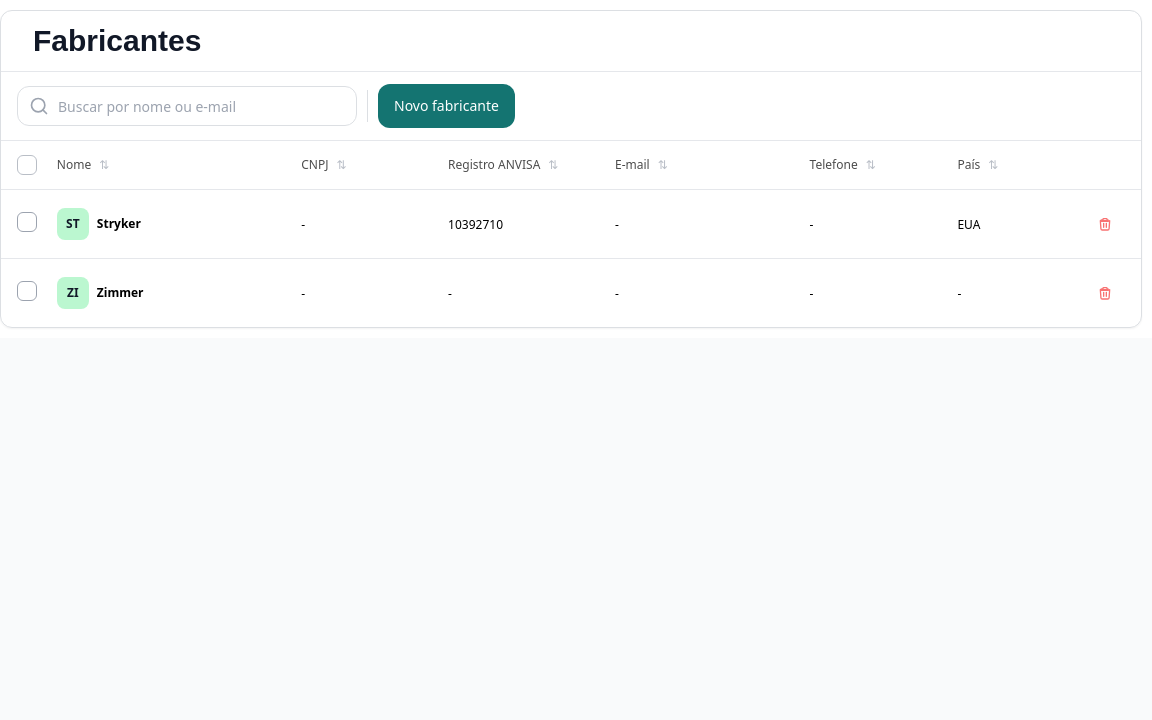
Test: FabricantesPage (lista genérica de cadastro) › exclui um fabricante e o tira da lista
Expected: the text "Stryker" is shown, [97,216,141,232]
Step 1. Click the button titled "Excluir fabricante" in the row of "Stryker" → click(1105, 224), box [1085,202,1125,246]
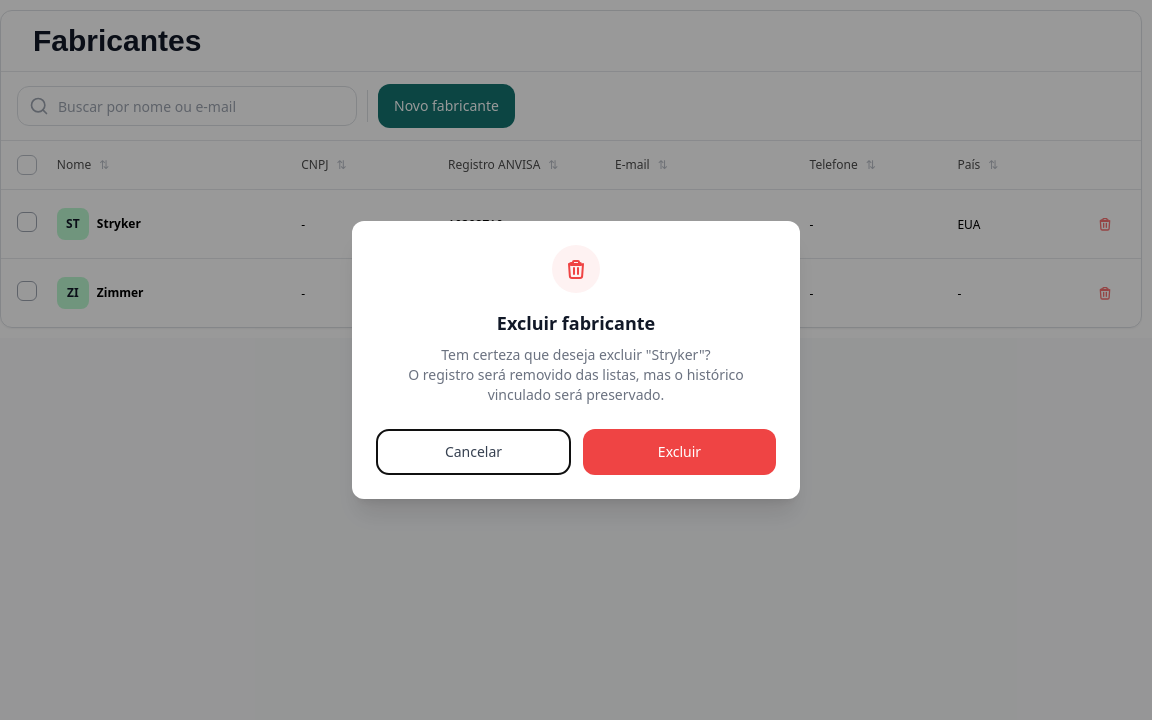
Step 2. Click the button "Excluir" → click(680, 452), box [583,429,776,475]
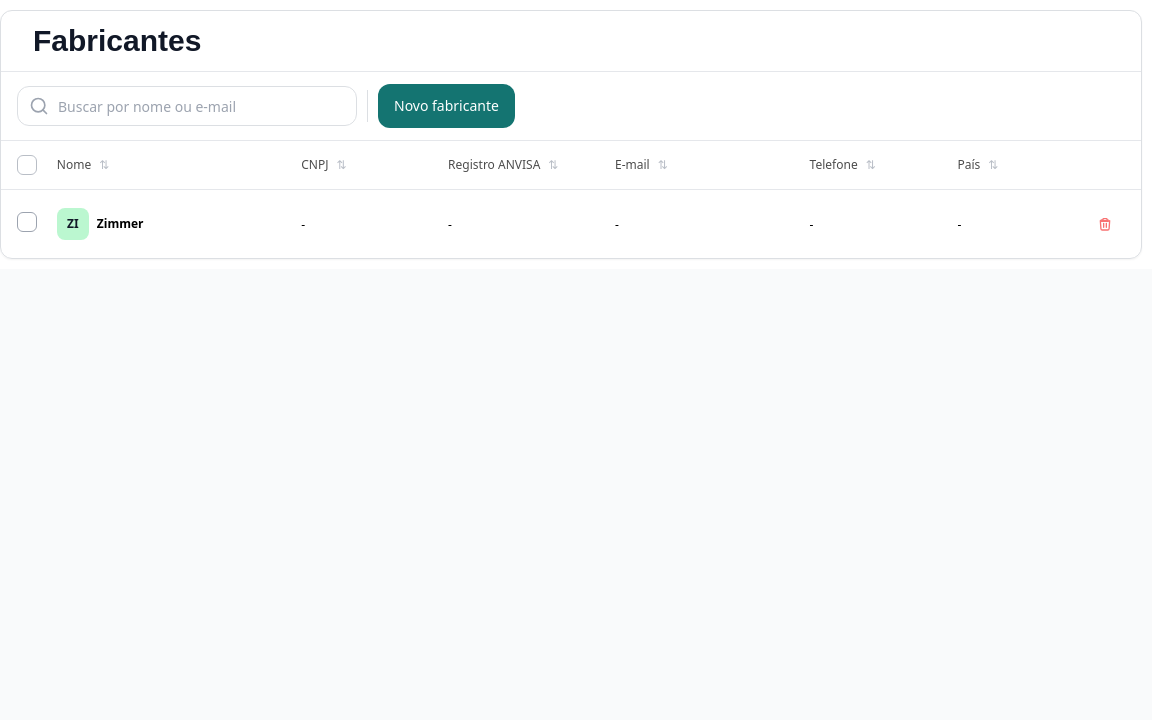
Now the text "Stryker" is gone
